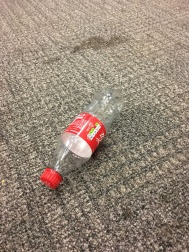bottle_red: (31, 79, 135, 193)
